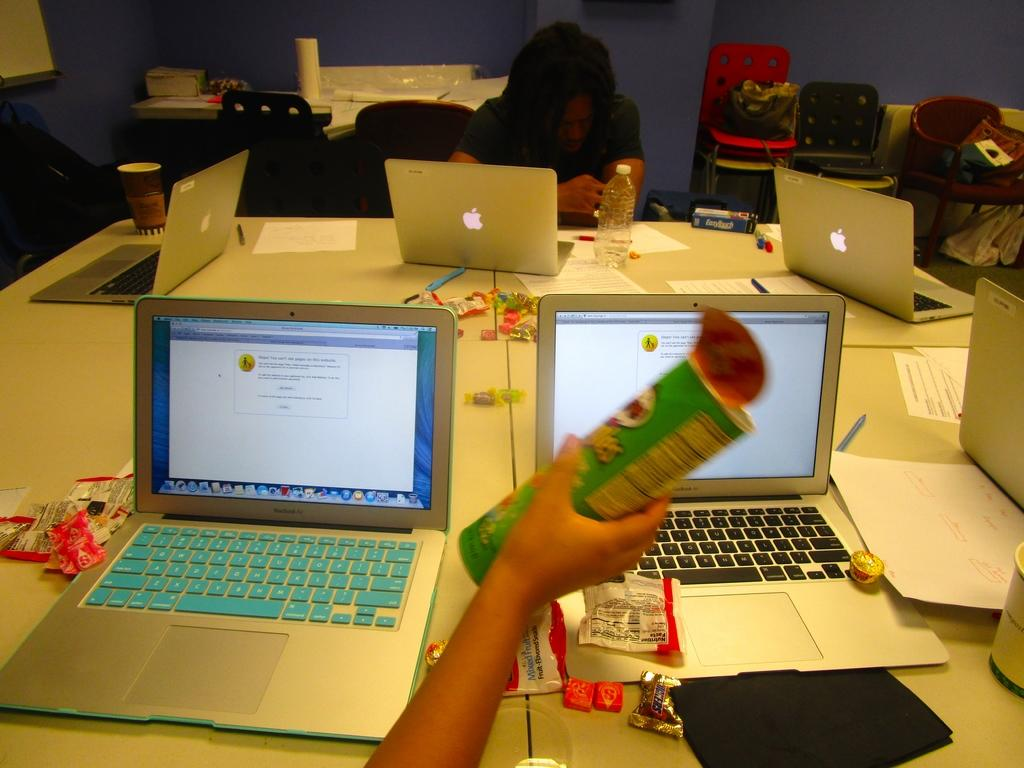Computer-keyboard: (80, 521, 416, 630), (620, 505, 852, 589), (85, 247, 159, 299), (915, 289, 952, 316)
